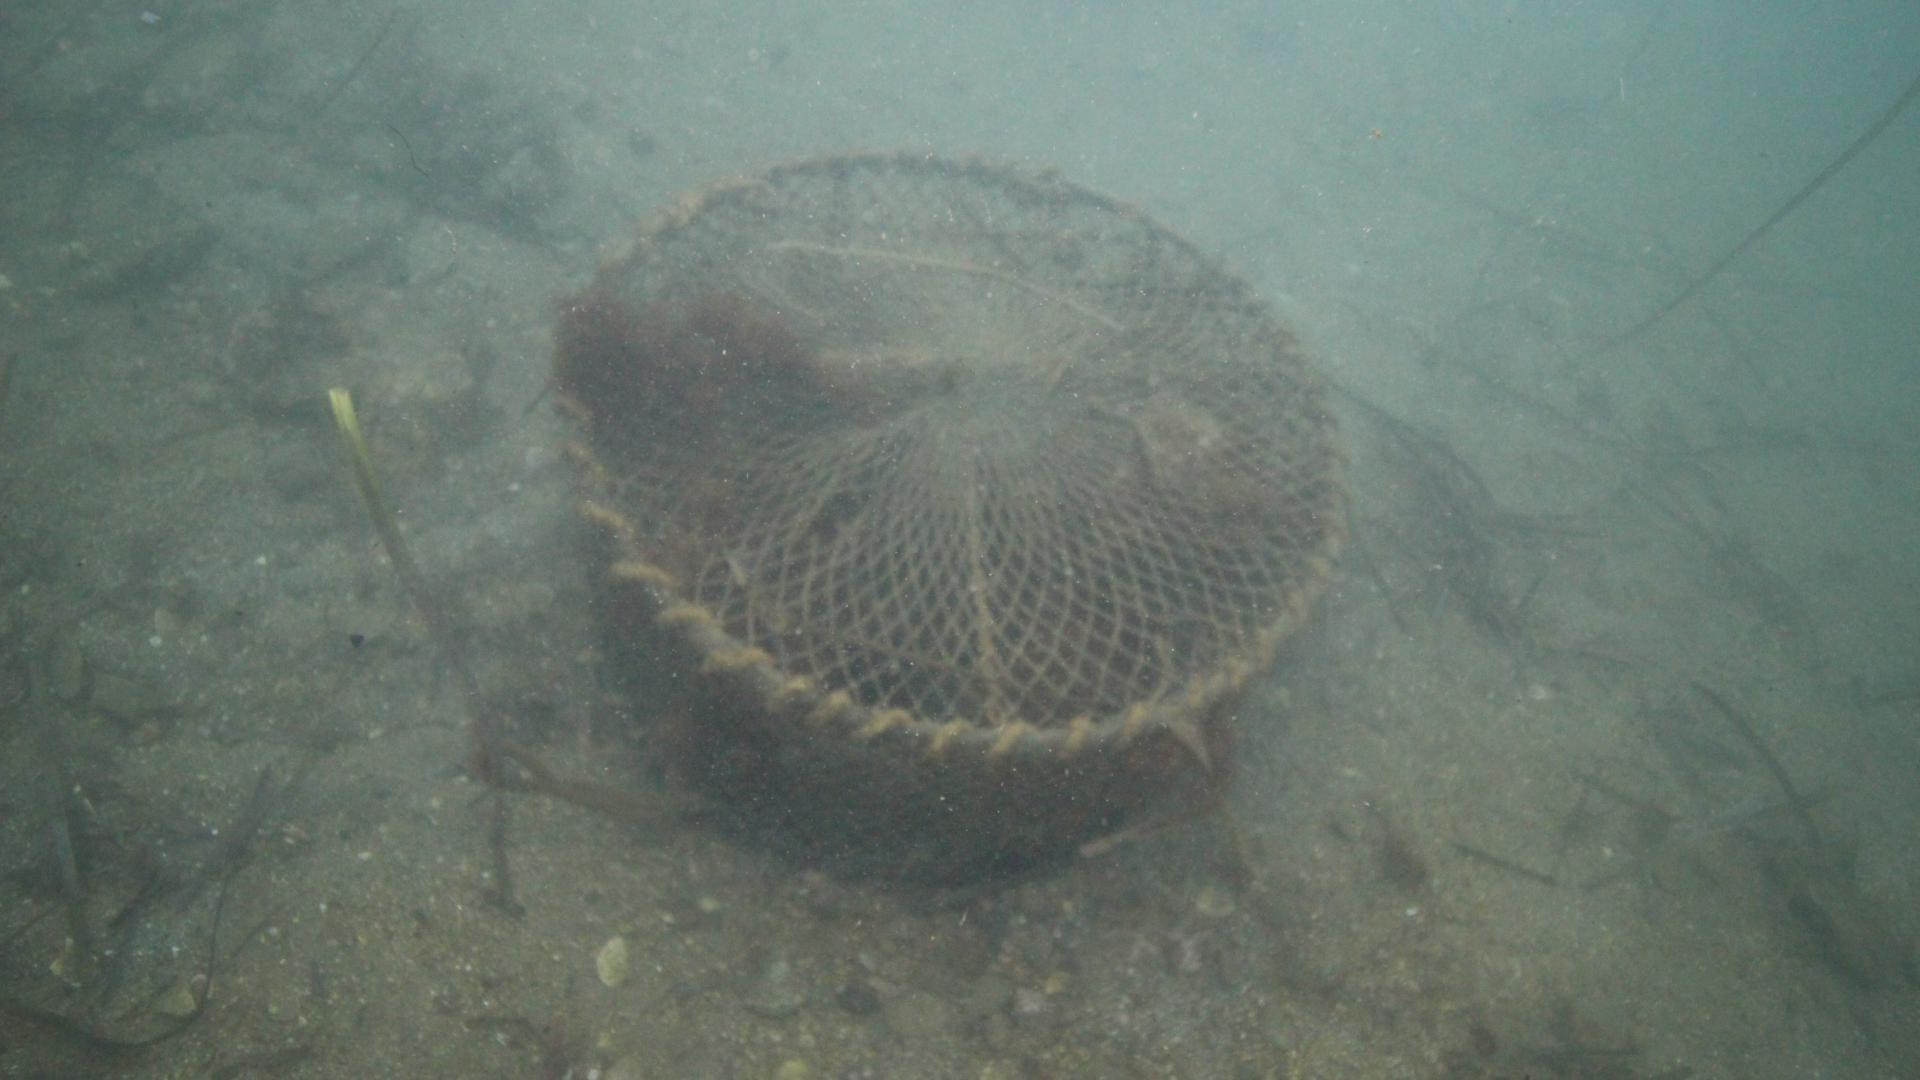circular fish trap: (549, 146, 1354, 886)
